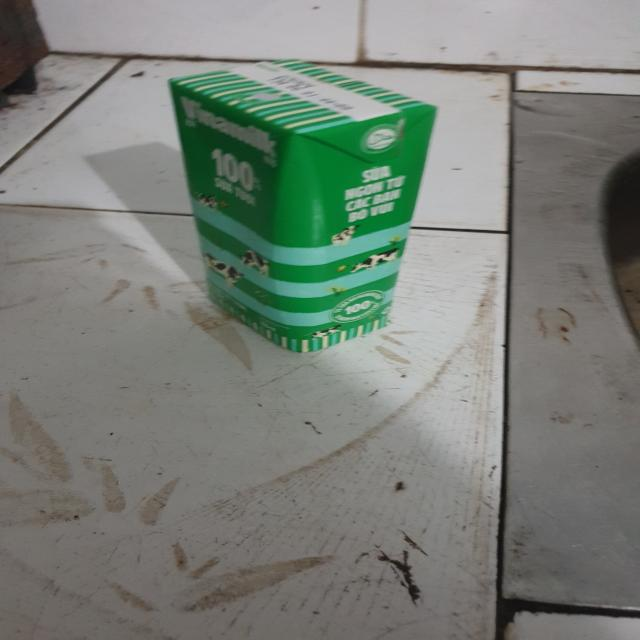Vina: (171, 65, 439, 360)
